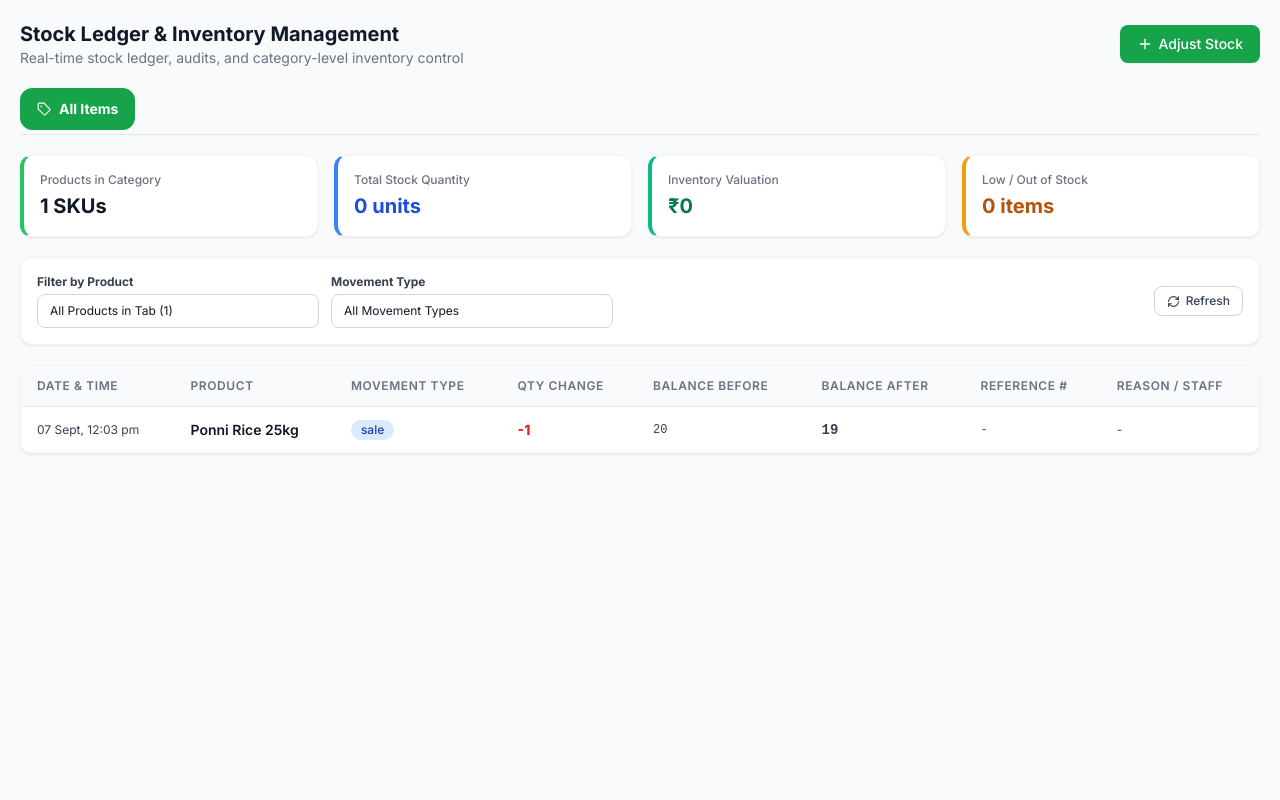
it: InventoryPage Component & Stock Adjustments › renders stock movements and opens Adjust Stock modal
Expected: the heading "Stock Ledger & Inventory Management" is shown, 20,20 -> 464,48
Expected: the text "Ponni Rice 25kg" is shown, 190,420 -> 299,438
Click the button "Adjust Stock" at [1190, 44], box 1120,25 -> 1260,63
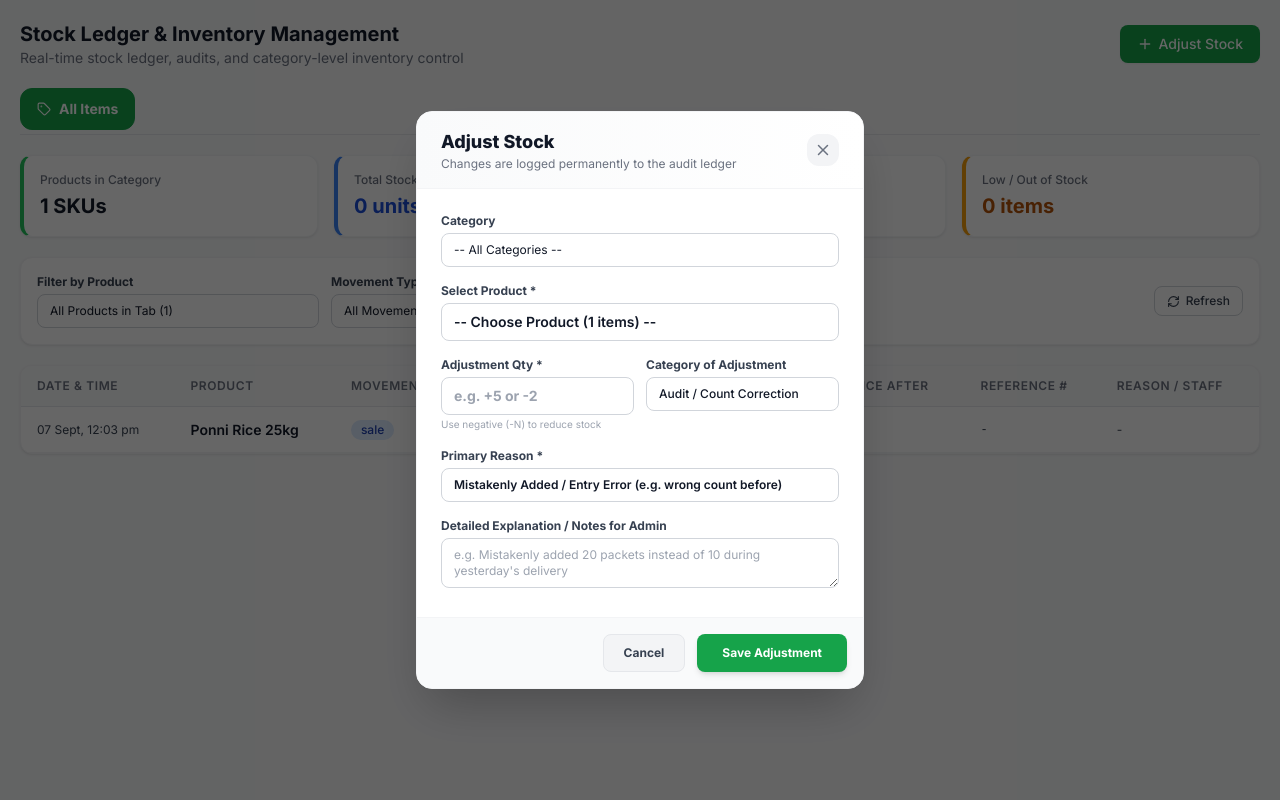
Expected: the text "Changes are logged permanently to the audit ledger" is shown, 441,156 -> 736,172
